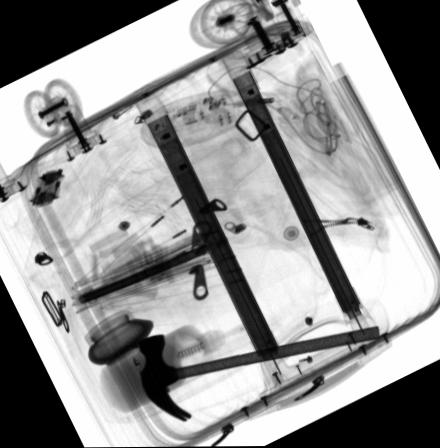Hammer: (139, 324, 380, 421)
